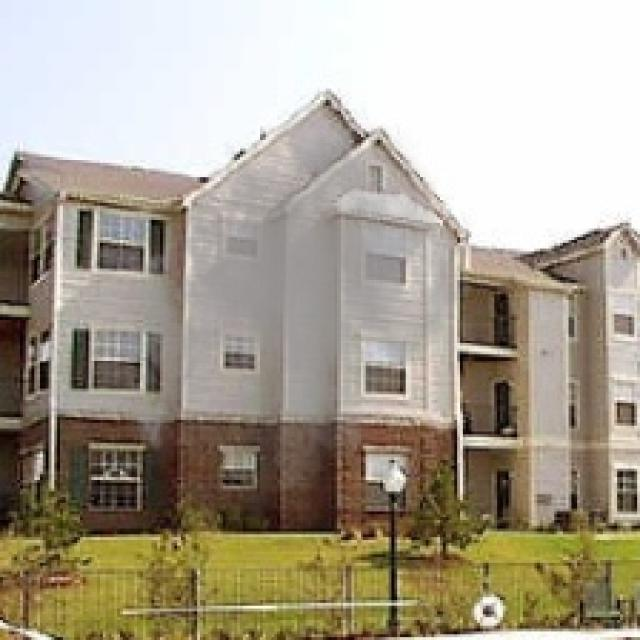smoke: (120, 103, 474, 517)
